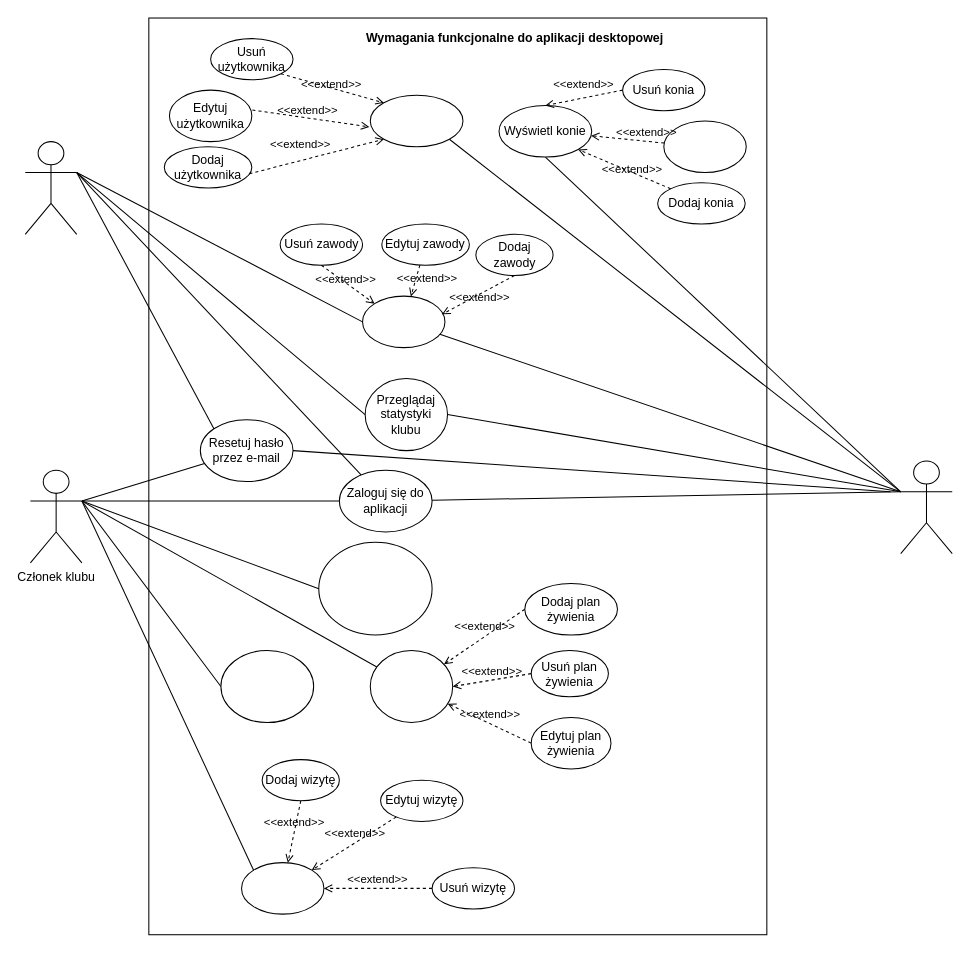
Image size: 980x953. Some labels were removed from this diagram. The shapes that lost their labels are listed below. From the top down, each one's centre as x and y in pixels, then its label:
At point 416,120: "Wyświetl użytkowników".
At point 704,146: "Edytuj konia".
At point 50,187: "Trener".
At point 403,321: "Wyświetl zawody".
At point 926,507: "Zarząd klubu".
At point 375,588: "Wyświetl zawody dotyczące twoich koni".
At point 267,686: "Przeglądaj statystyki swoich koni".
At point 411,686: "Wyświetl plan żywienia".
At point 282,888: "Wyświetl wizyty".
